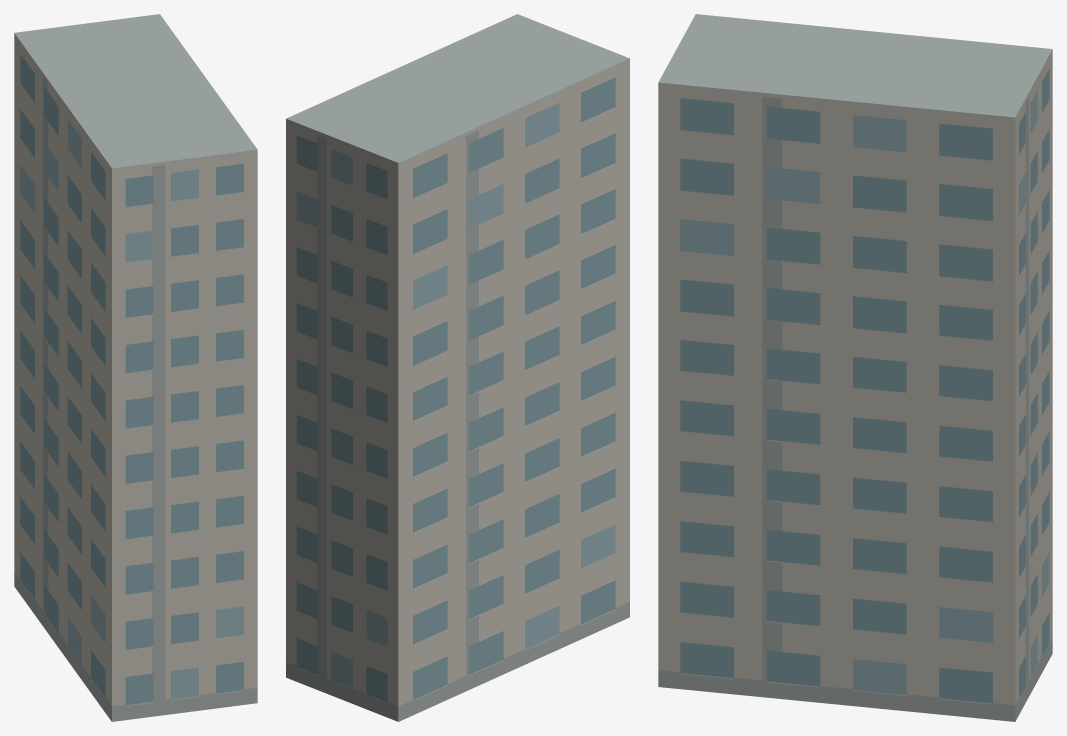
Rendered from residential-b938fa80-6ade-423e-b802-d6f1d1297517.glb.
3 renders of one model, left to right at view 1: azimuth 30°, elevation 25°; view 2: azimuth 150°, elevation 25°; view 3: azimuth 270°, elevation 25°, orthographic. The views are drawn at different scales.
Parts seen in each view (by area): view 1: residential-b938fa80-6ade-423e-b802-d6f1d1297517.tmp; view 2: residential-b938fa80-6ade-423e-b802-d6f1d1297517.tmp; view 3: residential-b938fa80-6ade-423e-b802-d6f1d1297517.tmp.
Boxes of the visible parts, x1,y1,x2,y2 form: residential-b938fa80-6ade-423e-b802-d6f1d1297517.tmp: (14, 14, 257, 721); residential-b938fa80-6ade-423e-b802-d6f1d1297517.tmp: (286, 14, 629, 721); residential-b938fa80-6ade-423e-b802-d6f1d1297517.tmp: (658, 14, 1052, 721).
Bounding box in the file's own units: 14.33 × 39 × 23.08.
